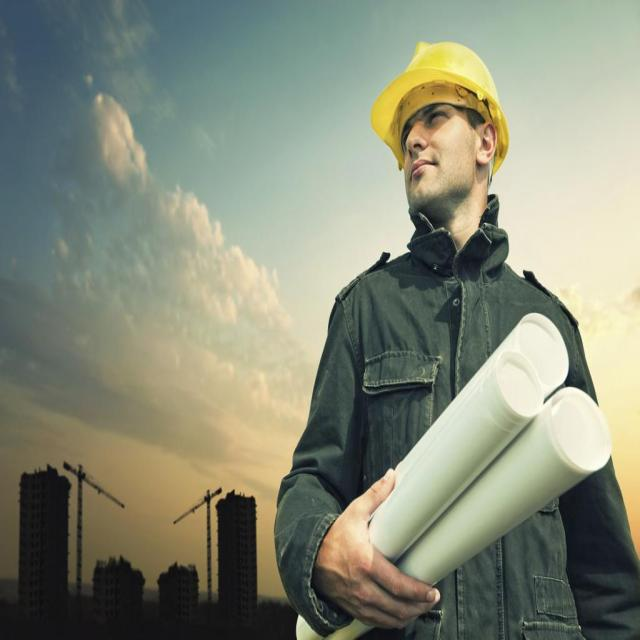Face: (400, 103, 486, 208)
